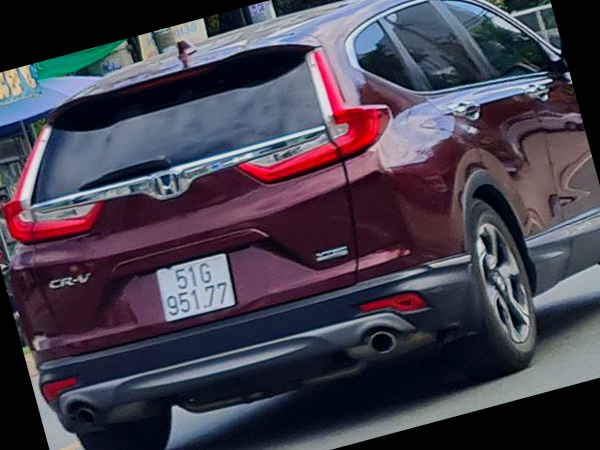lisence: (157, 251, 237, 322)
